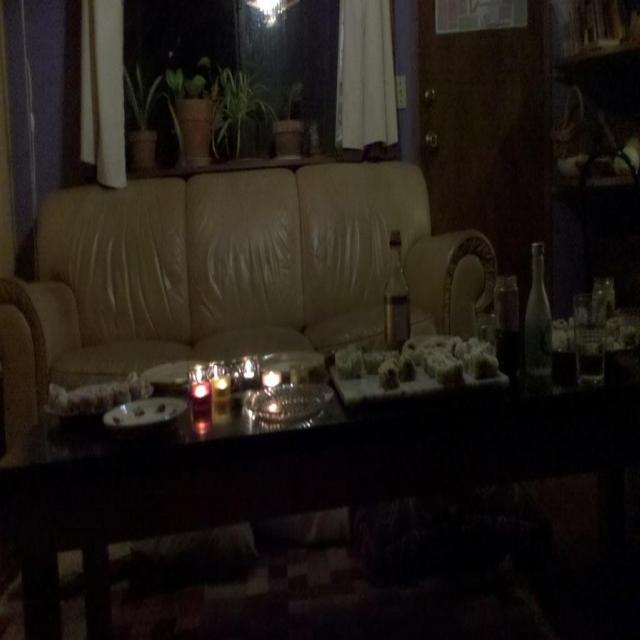Table: (0, 354, 516, 638)
